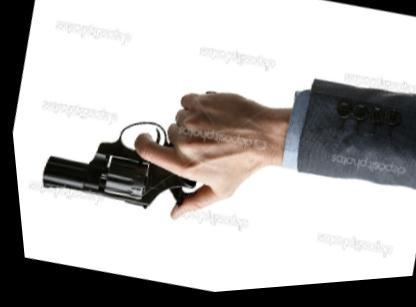pistol: (19, 55, 232, 246)
